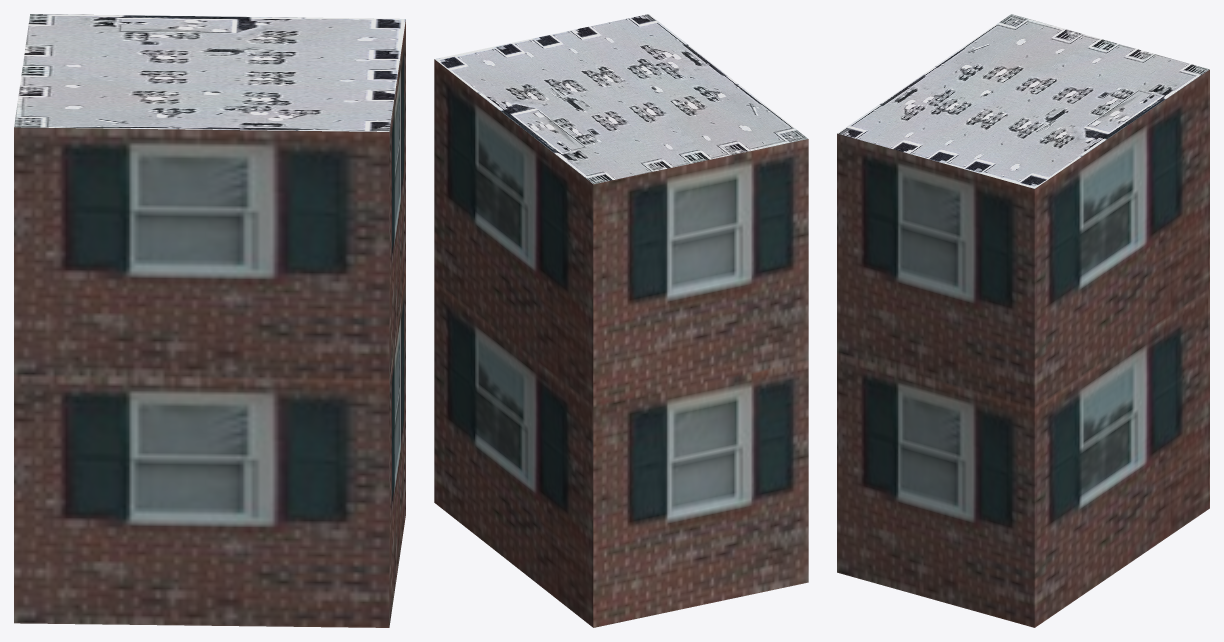
The model's file is ResTex__2254.fbx.
The picture shows the model from 3 angles, left to right: view 1: azimuth 30°, elevation 25°; view 2: azimuth 150°, elevation 25°; view 3: azimuth 270°, elevation 25°; orthographic projection. The views are drawn at different scales.
Parts seen in each view (by area): view 1: CityEngineMaterial_14_m, CityEngineMaterial_4_m; view 2: CityEngineMaterial_14_m, CityEngineMaterial_4_m; view 3: CityEngineMaterial_14_m, CityEngineMaterial_4_m.
Part boxes in pixels (x1=…): CityEngineMaterial_14_m: x1=14, y1=20, x2=405, y2=627; CityEngineMaterial_4_m: x1=14, y1=14, x2=405, y2=131; CityEngineMaterial_14_m: x1=434, y1=59, x2=808, y2=627; CityEngineMaterial_4_m: x1=434, y1=14, x2=807, y2=184; CityEngineMaterial_14_m: x1=837, y1=69, x2=1209, y2=627; CityEngineMaterial_4_m: x1=837, y1=14, x2=1209, y2=188.
Bounding box in the file's own units: 5.13 × 6 × 4.62.
Materials: 2 (2 with a texture image).
